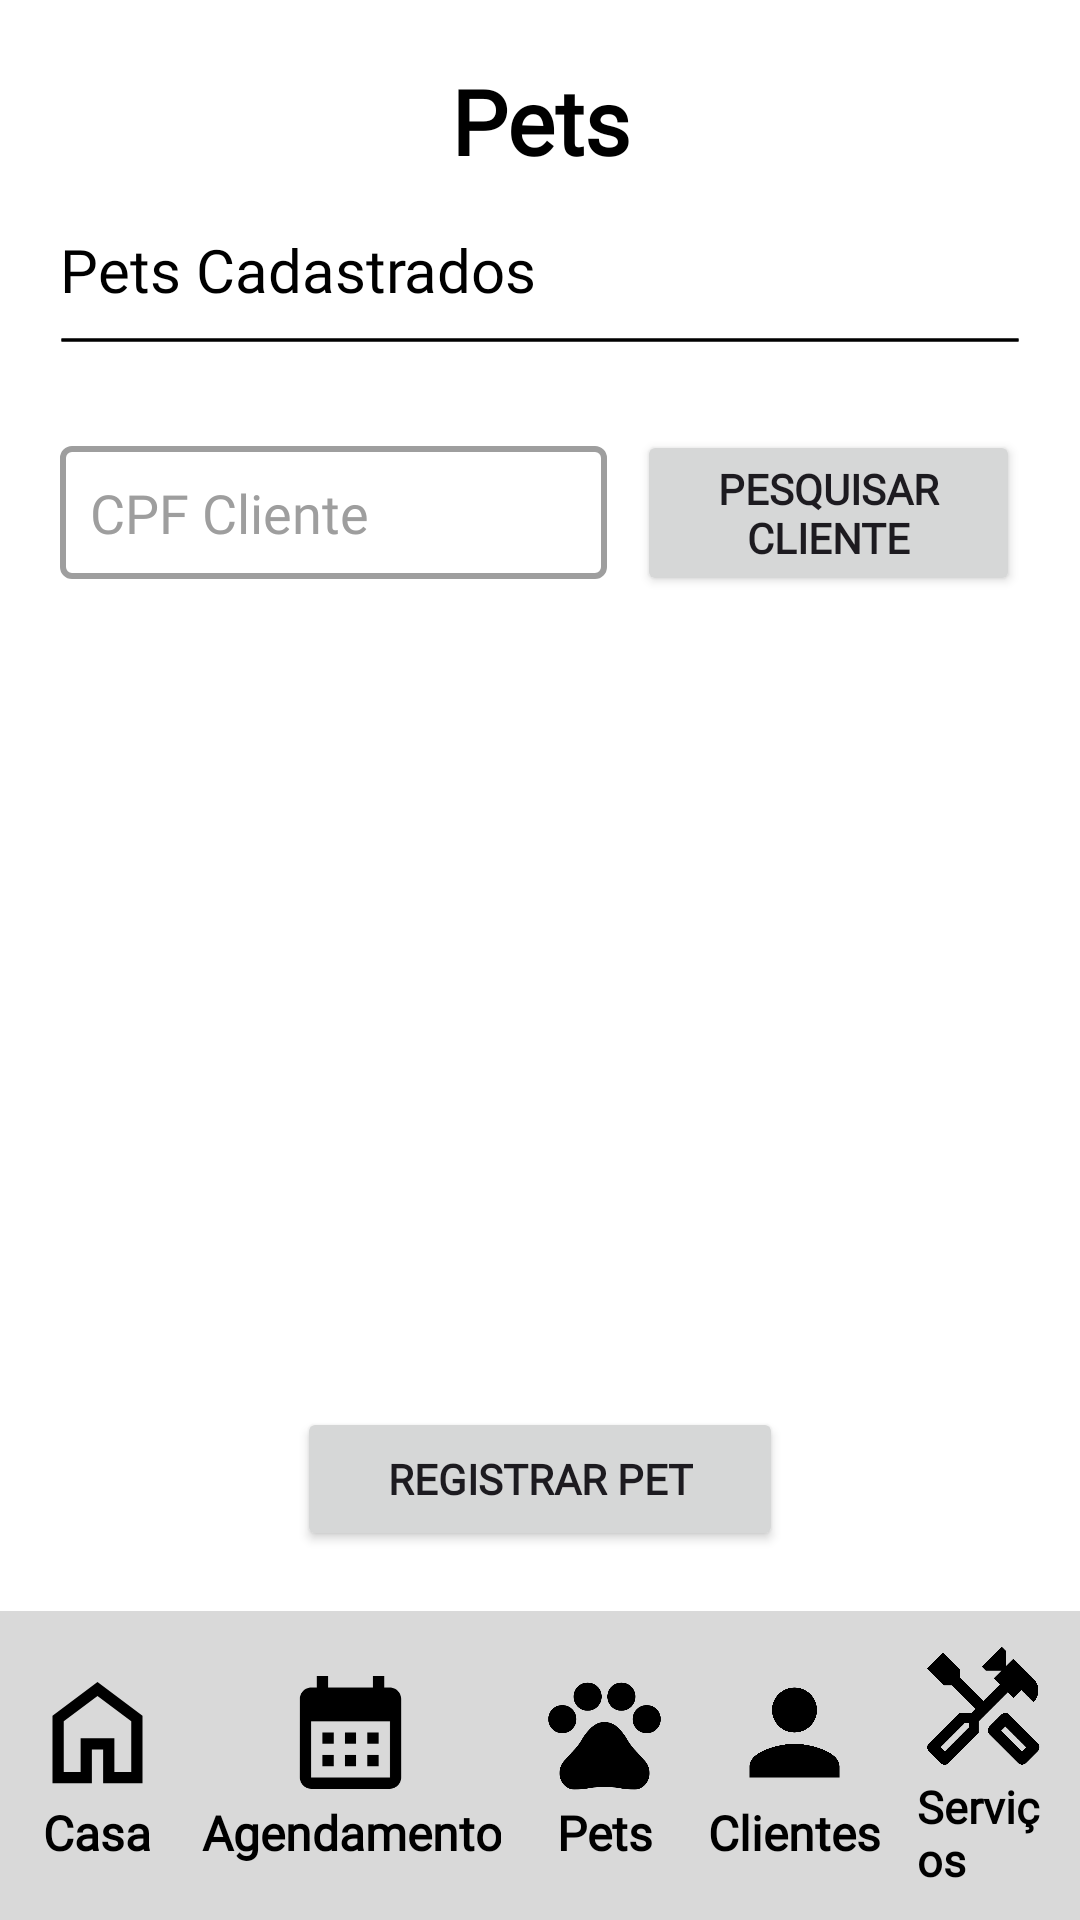

Locate icon controls on the screen. Image size 1080×1920, boxes as [x1=x1, y1=y1, x2=x2, y2=y2].
calendar month: [x1=299, y1=1676, x2=402, y2=1789]
person: [x1=749, y1=1687, x2=840, y2=1778]
